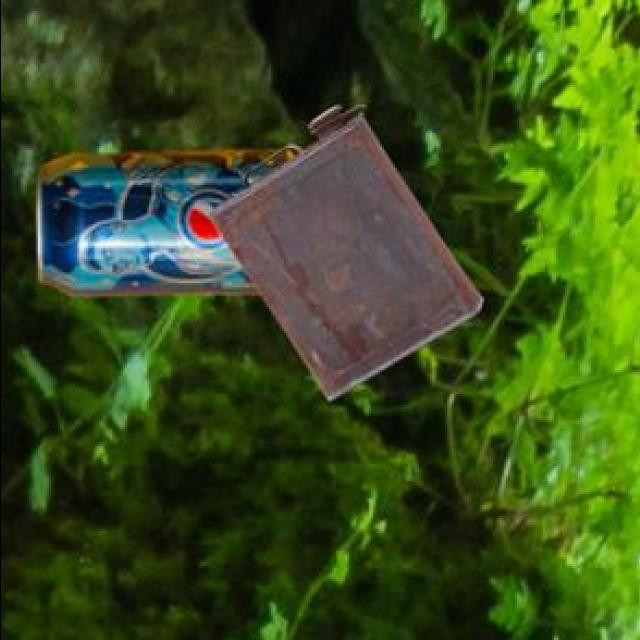logam: (210, 101, 484, 397), (40, 147, 295, 293)
